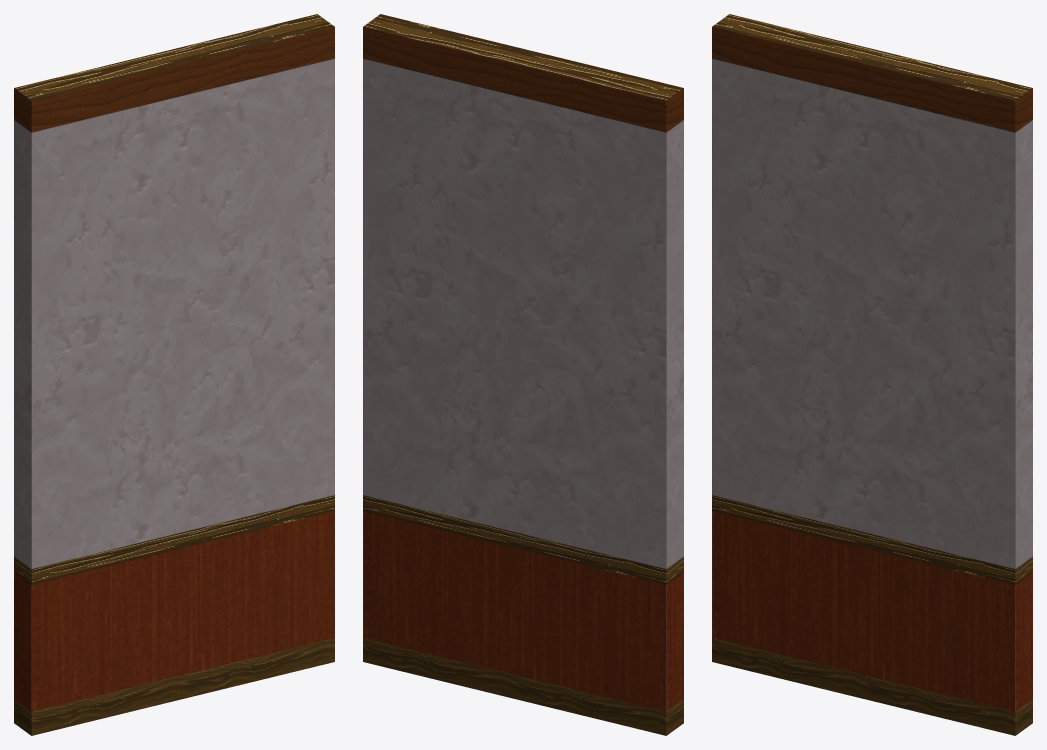
The model's file is SM_Wall_2m_Stone.fbx.
3 views of the same model, side by side, from view 1: azimuth 30°, elevation 25°; view 2: azimuth 150°, elevation 25°; view 3: azimuth 330°, elevation 25° (orthographic).
Visible parts, largest first — view 1: SM_Wall_2m_Stone; view 2: SM_Wall_2m_Stone; view 3: SM_Wall_2m_Stone.
Boxes of the visible parts, x1,y1,x2,y2 form: SM_Wall_2m_Stone: (14, 14, 334, 735); SM_Wall_2m_Stone: (363, 14, 683, 735); SM_Wall_2m_Stone: (712, 14, 1032, 735).
Bounding box in the file's own units: 2 × 4 × 0.2.
